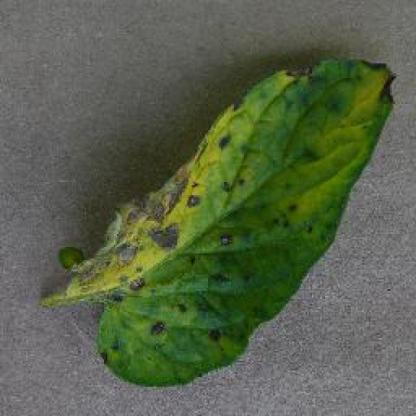Tomato_Blight: (74, 63, 395, 386)
